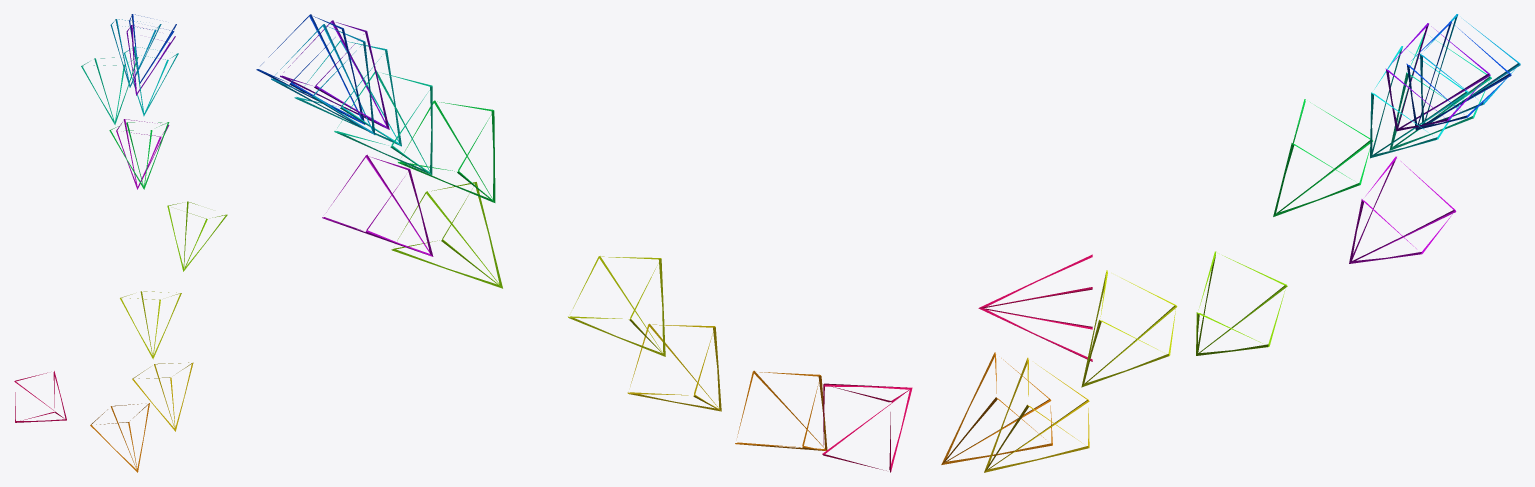
File: wrist_video_110.glb
The picture shows the model from 3 angles, left to right: view 1: azimuth 30°, elevation 25°; view 2: azimuth 150°, elevation 25°; view 3: azimuth 270°, elevation 25°; orthographic projection. The views are drawn at different scales.
Visible parts, largest first — view 1: world; view 2: world; view 3: world.
Part boxes in pixels (bbox=[...]): world: bbox=[14, 14, 227, 472]; world: bbox=[256, 14, 912, 472]; world: bbox=[941, 14, 1520, 472].
Size of the model in its own units: 0.567 by 0.6501 by 0.6064.
